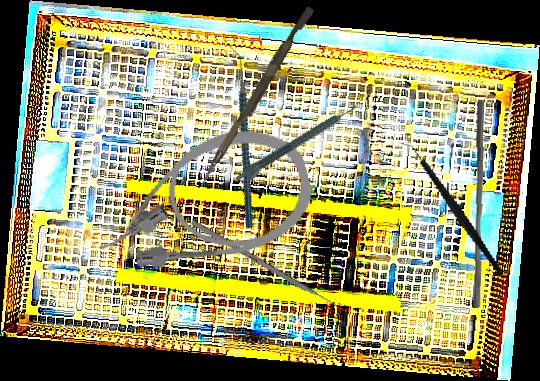Cannula: (79, 115, 323, 289)
Chopper: (181, 44, 300, 229), (397, 123, 505, 293)
Handpiece: (233, 102, 362, 189)
Pusher: (199, 3, 315, 189), (190, 219, 349, 315), (468, 100, 489, 308)
